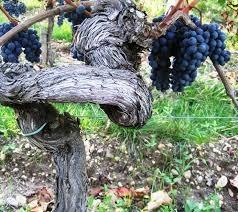Grape Ripe: (148, 15, 230, 90), (2, 30, 40, 61), (0, 23, 14, 36)
